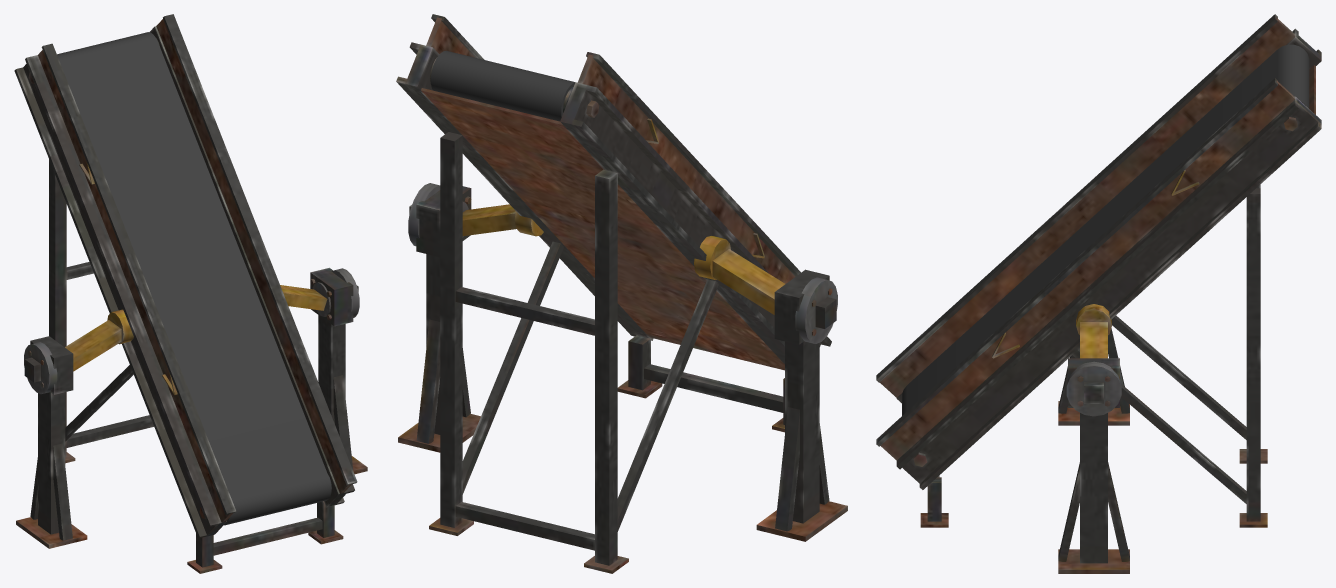
Rendered from feConveyorDown.glb.
3 renders of one model, left to right at view 1: azimuth 30°, elevation 25°; view 2: azimuth 150°, elevation 25°; view 3: azimuth 270°, elevation 25°, orthographic. The views are drawn at different scales.
Parts seen in each view (by area): view 1: feConveyorDown_Base, FeBeltDrive_R.002, FeBeltDrive_L.002, FeSpin_BeltDrive_R.002; view 2: feConveyorDown_Base, FeBeltDrive_R.002, FeBeltDrive_L.002, FeSpin_BeltDrive_R.002, FeSpin_BeltDrive_L.002; view 3: feConveyorDown_Base, FeBeltDrive_L.002, FeSpin_BeltDrive_L.002, FeBeltDrive_R.002.
Part boxes in pixels (<box>): feConveyorDown_Base: <box>14,14,357,573</box>; FeBeltDrive_R.002: <box>16,309,133,548</box>; FeBeltDrive_L.002: <box>280,267,367,474</box>; FeSpin_BeltDrive_R.002: <box>24,342,57,394</box>; feConveyorDown_Base: <box>396,14,831,573</box>; FeBeltDrive_R.002: <box>694,236,847,541</box>; FeBeltDrive_L.002: <box>398,186,543,452</box>; FeSpin_BeltDrive_R.002: <box>795,277,837,343</box>; FeSpin_BeltDrive_L.002: <box>408,183,440,246</box>; feConveyorDown_Base: <box>876,14,1321,527</box>; FeBeltDrive_L.002: <box>1058,304,1129,573</box>; FeSpin_BeltDrive_L.002: <box>1066,361,1121,416</box>; FeBeltDrive_R.002: <box>1058,328,1129,425</box>.
Bounding box in the file's own units: 1.02 × 1.22 × 1.12.
2 materials, 1 textured.
